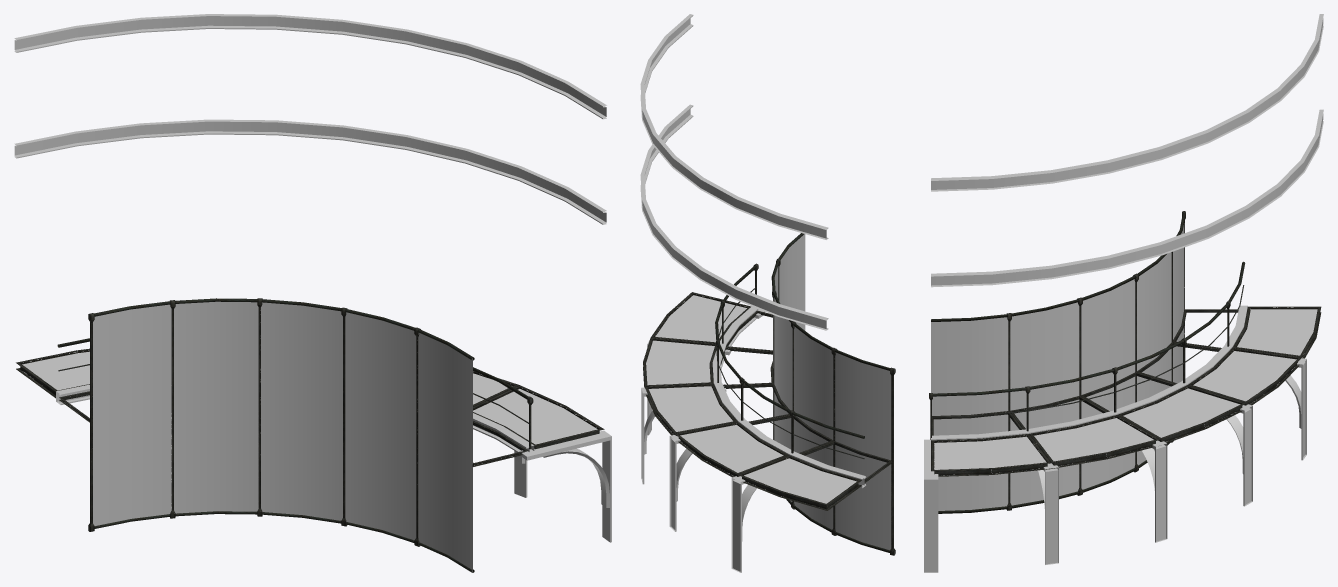
File: tesla_modules_core_floor_01.dae
3 views of the same model, side by side, from view 1: azimuth 30°, elevation 25°; view 2: azimuth 150°, elevation 25°; view 3: azimuth 270°, elevation 25° (orthographic). The views are drawn at different scales.
Parts seen in each view (by area): view 1: polySurface71, polySurface758, polySurface522, polySurface45; view 2: polySurface71, polySurface45, polySurface758, polySurface522; view 3: polySurface71, polySurface758, polySurface45, polySurface522.
Boxes of the visible parts, x1=… form: polySurface71: x1=93, y1=301, x2=472, y2=572; polySurface758: x1=14, y1=14, x2=611, y2=542; polySurface522: x1=16, y1=298, x2=604, y2=572; polySurface45: x1=22, y1=351, x2=597, y2=444; polySurface71: x1=773, y1=234, x2=891, y2=550; polySurface45: x1=646, y1=295, x2=856, y2=503; polySurface758: x1=640, y1=14, x2=866, y2=572; polySurface522: x1=643, y1=233, x2=895, y2=555; polySurface71: x1=931, y1=223, x2=1184, y2=510; polySurface758: x1=924, y1=14, x2=1323, y2=572; polySurface45: x1=934, y1=309, x2=1317, y2=472; polySurface522: x1=929, y1=211, x2=1321, y2=513.
Size of the model in its own units: 937 by 1032 by 947.
